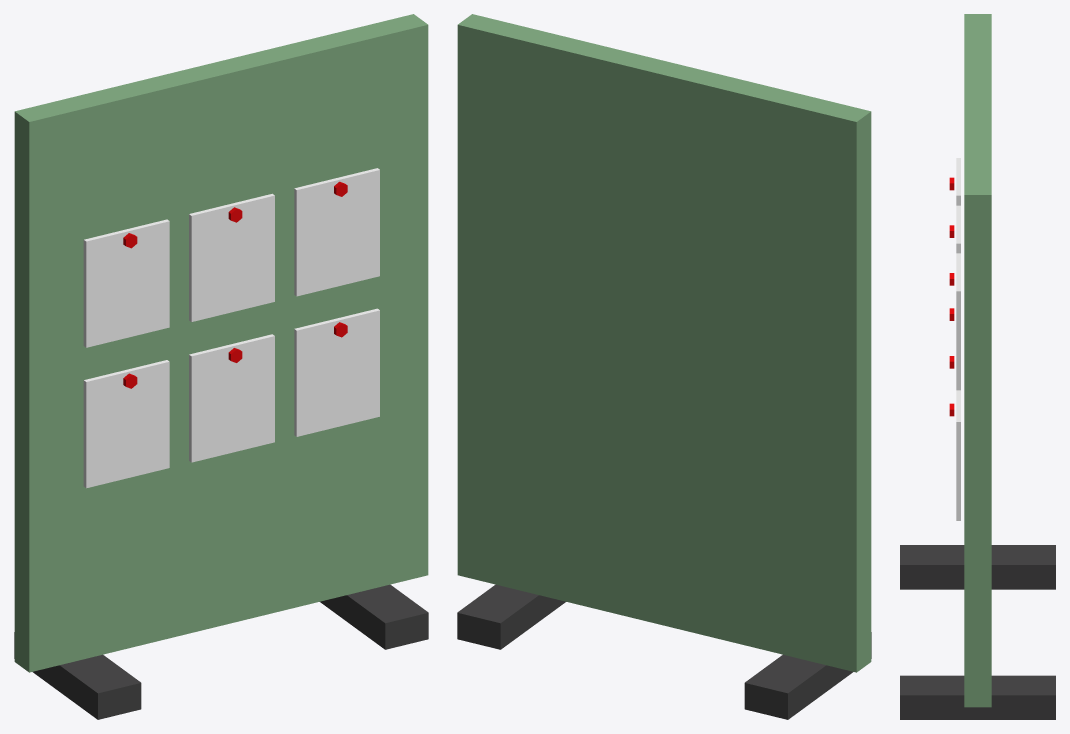
The picture shows the model from 3 angles, left to right: view 1: azimuth 30°, elevation 25°; view 2: azimuth 150°, elevation 25°; view 3: azimuth 270°, elevation 25°; orthographic projection. The views are drawn at different scales.
Parts seen in each view (by area): view 1: Panel, Notice paper, Notice paper.003, Notice paper.001, Notice paper.004, Notice paper.002, Notice paper.005, Panel foot, Panel foot.001; view 2: Panel, Panel foot, Panel foot.001; view 3: Panel, Panel foot.001, Panel foot, Notice paper.005, Notice paper.002.
Boxes of the visible parts, x1,y1,x2,y2 form: Panel: (14,14,428,672); Notice paper: (83,360,169,488); Notice paper.003: (83,219,169,347); Notice paper.001: (189,334,274,462); Notice paper.004: (189,193,274,321); Notice paper.002: (294,308,379,436); Notice paper.005: (294,168,379,296); Panel foot: (14,632,141,719); Panel foot.001: (320,584,428,649); Panel: (457,14,871,672); Panel foot: (744,632,871,719); Panel foot.001: (457,584,565,649); Panel: (964,14,991,707); Panel foot.001: (900,675,1055,719); Panel foot: (900,545,1055,589); Notice paper.005: (956,253,960,390); Notice paper.002: (956,390,960,520).
Size of the model in its own units: 110 by 153 by 40.
